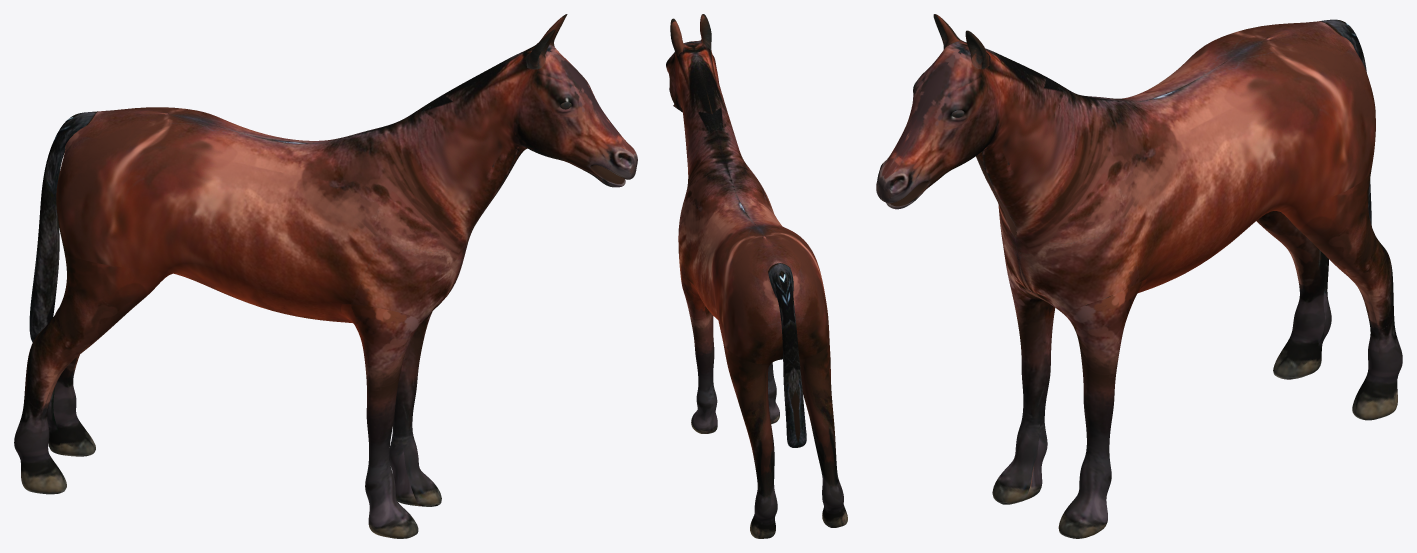
The model's file is obiect3.obj.
The picture shows the model from 3 angles, left to right: view 1: azimuth 30°, elevation 25°; view 2: azimuth 150°, elevation 25°; view 3: azimuth 270°, elevation 25°; orthographic projection. The views are drawn at different scales.
Parts seen in each view (by area): view 1: 10026_Horse_v01-it2.001; view 2: 10026_Horse_v01-it2.001; view 3: 10026_Horse_v01-it2.001.
Part boxes in pixels (box(x1,y1,x2,y2)): 10026_Horse_v01-it2.001: box(14, 14, 637, 538); 10026_Horse_v01-it2.001: box(666, 14, 847, 538); 10026_Horse_v01-it2.001: box(876, 14, 1402, 538).
Bounding box in the file's own units: 0.3625 × 0.4104 × 0.3534.
1 material, 1 textured.
